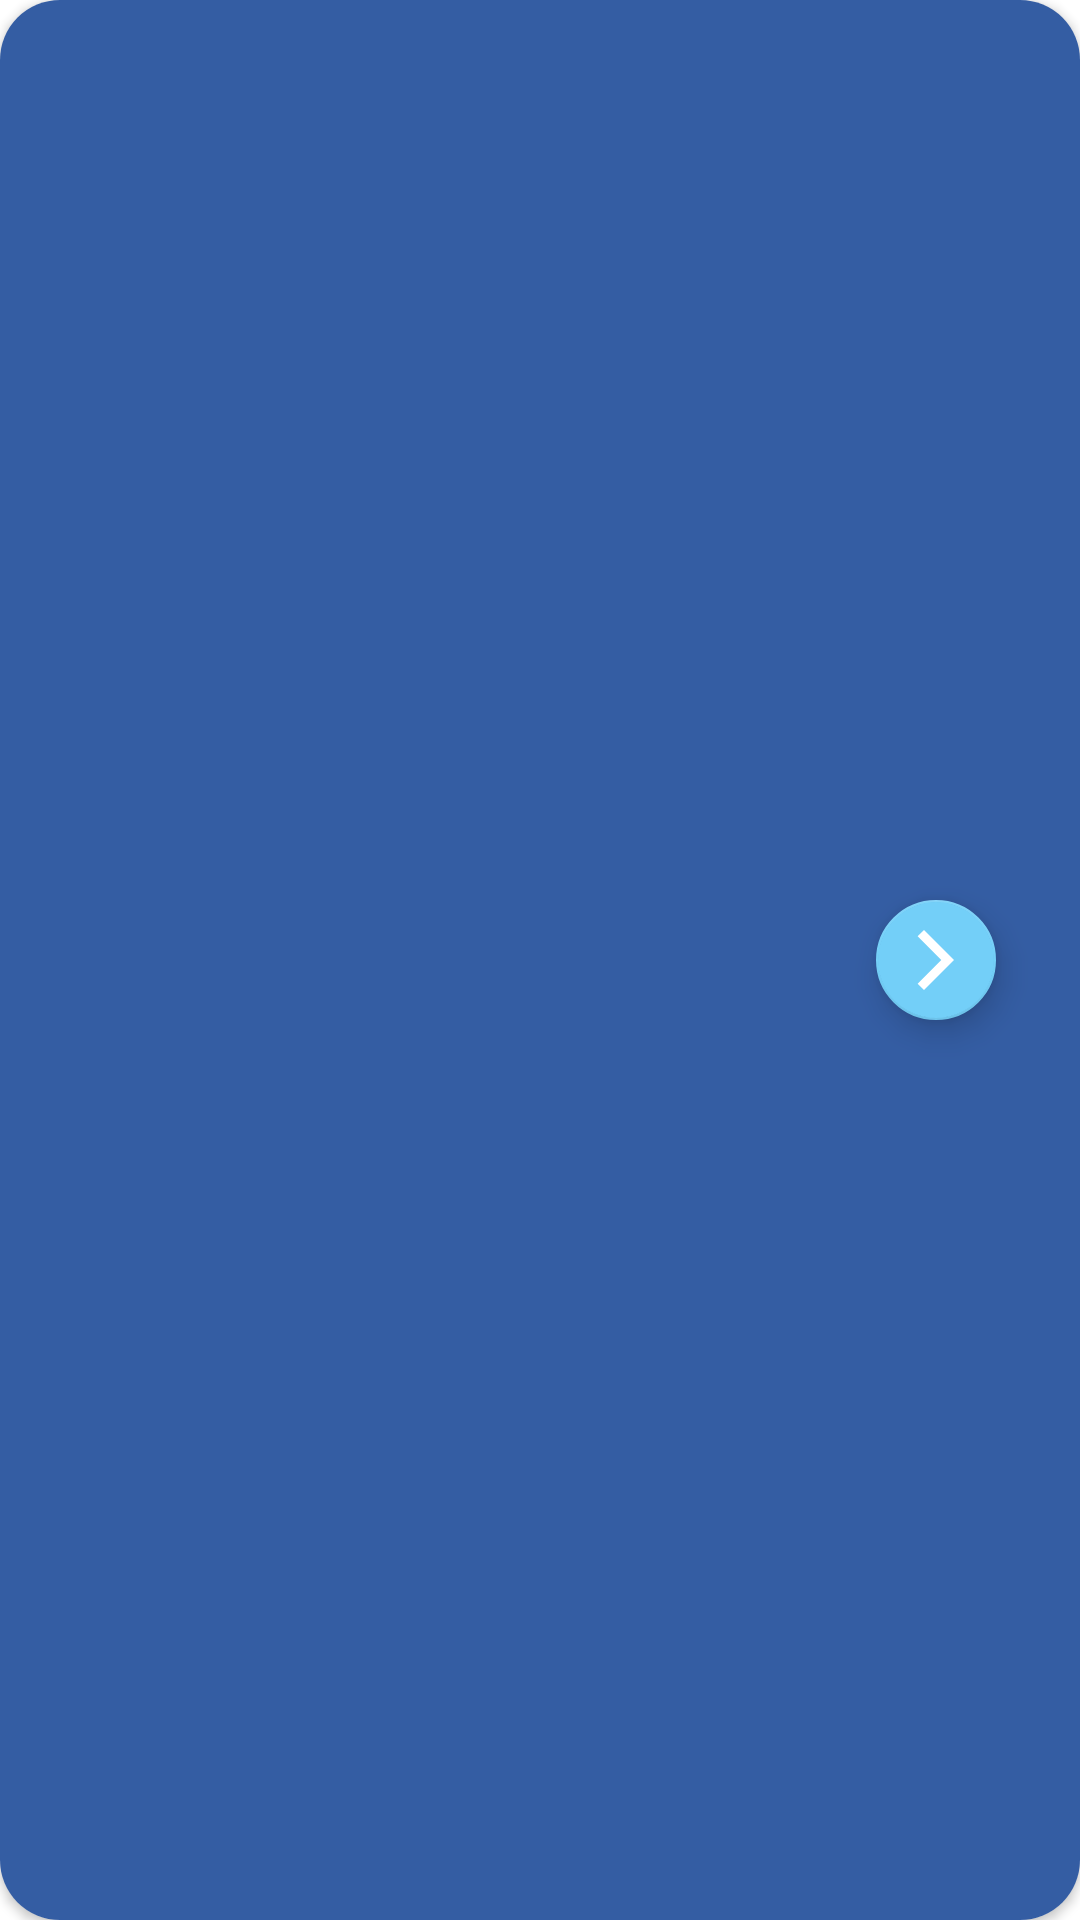

Icons on this 1080px x 1920px Android screen, each with its box as (x1, y1, x2, y2):
arrow forward: (876, 900, 996, 1021)
